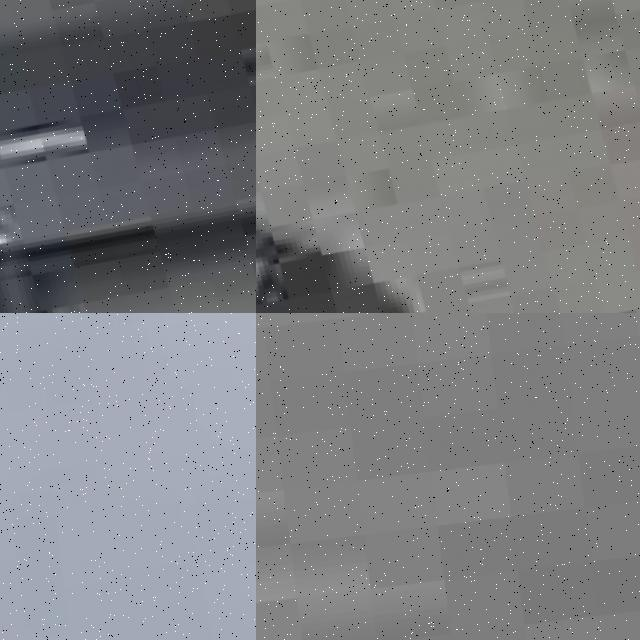drone: (256, 0, 640, 313), (0, 0, 256, 313)
